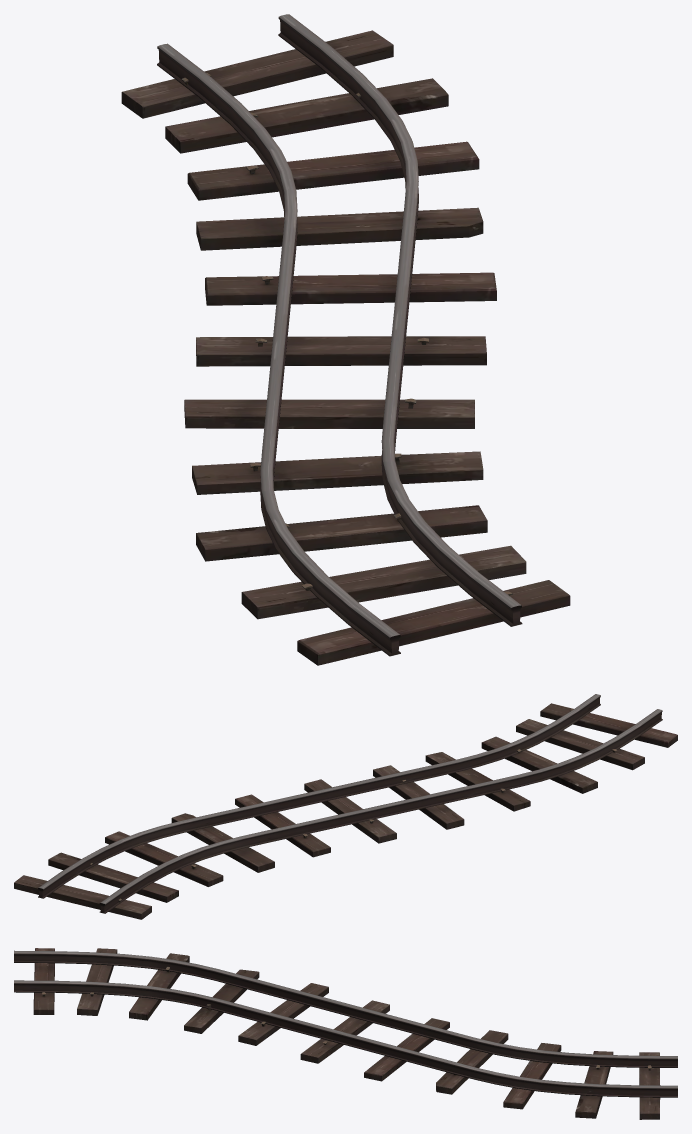
3 renders of one model, top to bottom at view 1: azimuth 30°, elevation 25°; view 2: azimuth 150°, elevation 25°; view 3: azimuth 270°, elevation 25°, orthographic. The views are drawn at different scales.
Visible parts, largest first — view 1: body0_model0_lod0_mesh0; view 2: body0_model0_lod0_mesh0; view 3: body0_model0_lod0_mesh0.
Part boxes in pixels (<box>): body0_model0_lod0_mesh0: <box>121,14,570,665</box>; body0_model0_lod0_mesh0: <box>14,694,677,919</box>; body0_model0_lod0_mesh0: <box>14,948,677,1119</box>.
Size of the model in its own units: 152 by 6.72 by 256.
1 material, 1 textured.
